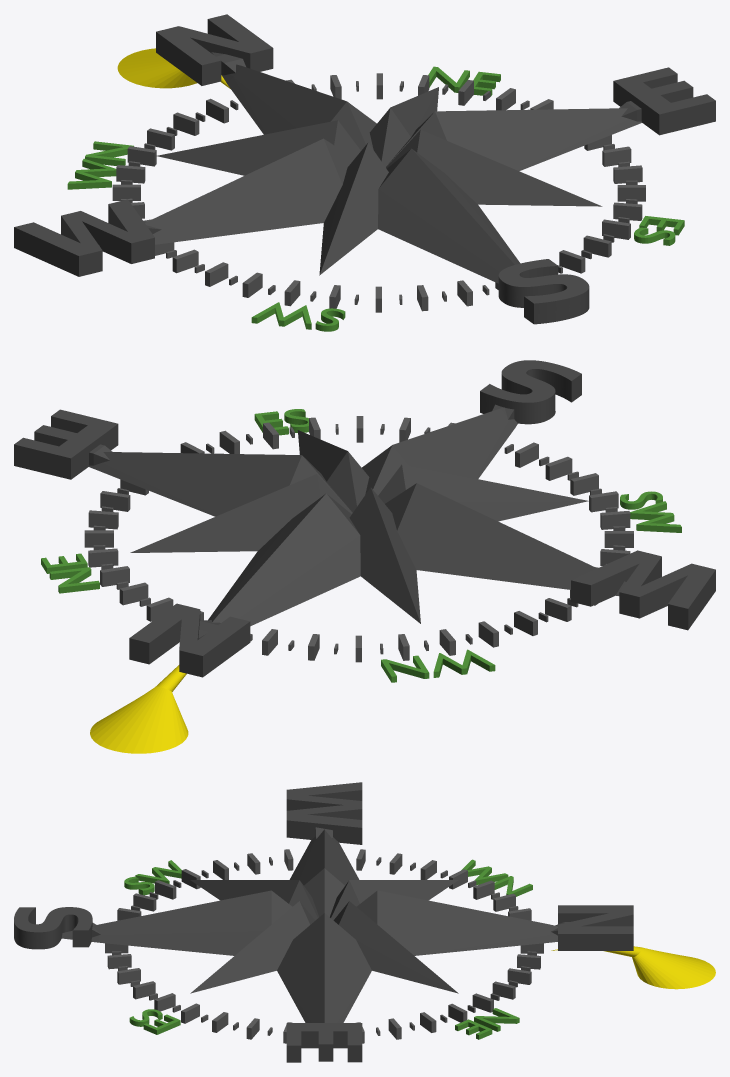
File: s_3dcompass_blender2.glb
3 views of the same model, one above another, from view 1: azimuth 30°, elevation 25°; view 2: azimuth 150°, elevation 25°; view 3: azimuth 270°, elevation 25° (orthographic). The views are drawn at different scales.
Visible parts, largest first — view 1: CompassRose, Cone, Text.003, Text.002, Text.001, Text, Cube.015, Cube.032, Cube.031, Cube.013, Cube.014, Cube.026 (+7 smaller); view 2: CompassRose, Cone, Text.002, Text.003, Text, Text.001; view 3: CompassRose, Cone, Text, Text.002, Text.003, Text.001.
Boxes of the visible parts, x1,y1,x2,y2 form: CompassRose: (14, 14, 715, 324); Cone: (117, 48, 230, 88); Text.003: (67, 141, 133, 189); Text.002: (251, 302, 345, 331); Text.001: (634, 216, 684, 245); Text: (428, 66, 500, 96); Cube.015: (581, 235, 611, 259); Cube.032: (127, 143, 156, 166); Cube.031: (116, 161, 145, 183); Cube.013: (613, 202, 642, 223); Cube.014: (602, 219, 630, 242); Cube.026: (166, 249, 198, 273); CompassRose: (14, 360, 715, 677); Cone: (90, 665, 188, 753); Text.002: (620, 491, 681, 532); Text.003: (381, 649, 495, 682); Text: (41, 553, 99, 593); Text.001: (254, 409, 308, 435); CompassRose: (14, 782, 633, 1062); Cone: (551, 946, 715, 989); Text: (455, 1008, 519, 1039); Text.002: (124, 860, 181, 895); Text.003: (461, 859, 532, 896); Text.001: (129, 1009, 180, 1034).
Size of what is drawn, in the model's own units: 98.84 by 14.36 by 111.
